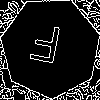F: (25, 23, 63, 73)
